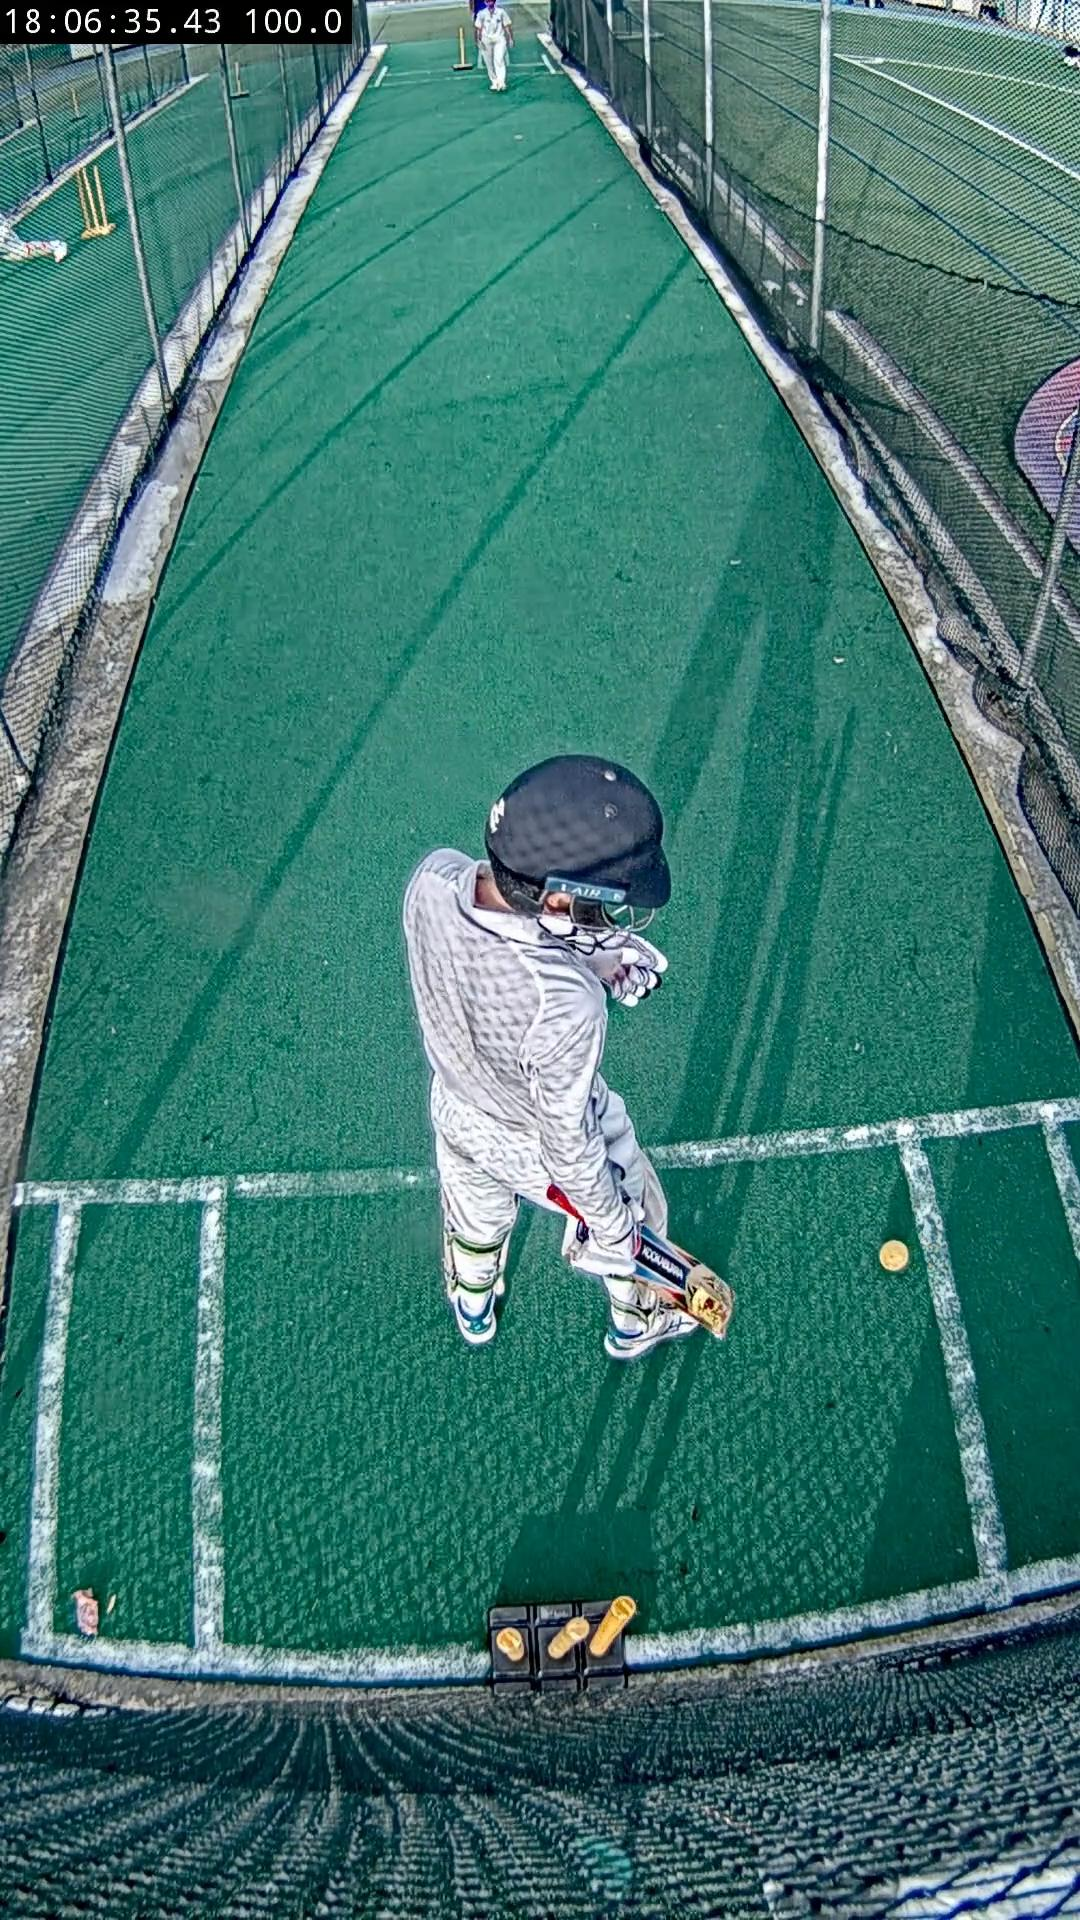ball: (877, 1237, 911, 1271)
bat: (634, 1226, 735, 1338), (547, 1185, 574, 1213)
gloves: (612, 934, 667, 1007)
helmet: (488, 754, 671, 907)
stumps: (488, 1597, 637, 1692)
